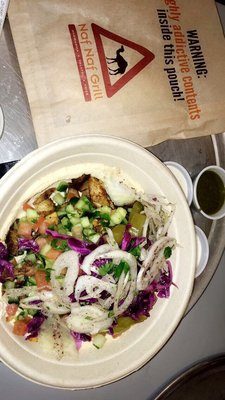sushi: (1, 134, 203, 389)
